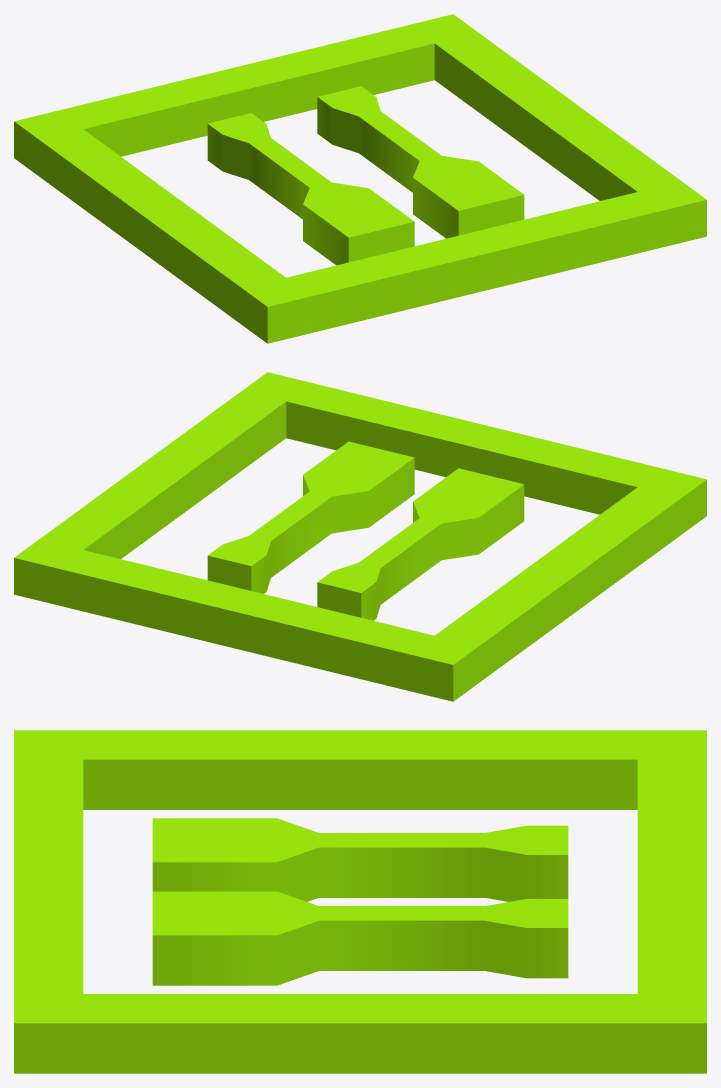
Rendered from pu_guns.fbx.
The picture shows the model from 3 angles, top to bottom: view 1: azimuth 30°, elevation 25°; view 2: azimuth 150°, elevation 25°; view 3: azimuth 270°, elevation 25°; orthographic projection. The views are drawn at different scales.
Parts seen in each view (by area): view 1: pu_guns; view 2: pu_guns; view 3: pu_guns.
Part boxes in pixels (x1=…): pu_guns: x1=14, y1=14, x2=706, y2=343; pu_guns: x1=14, y1=372, x2=706, y2=701; pu_guns: x1=14, y1=730, x2=706, y2=1073.
Size of the model in its own units: 1 by 0.08 by 1.
